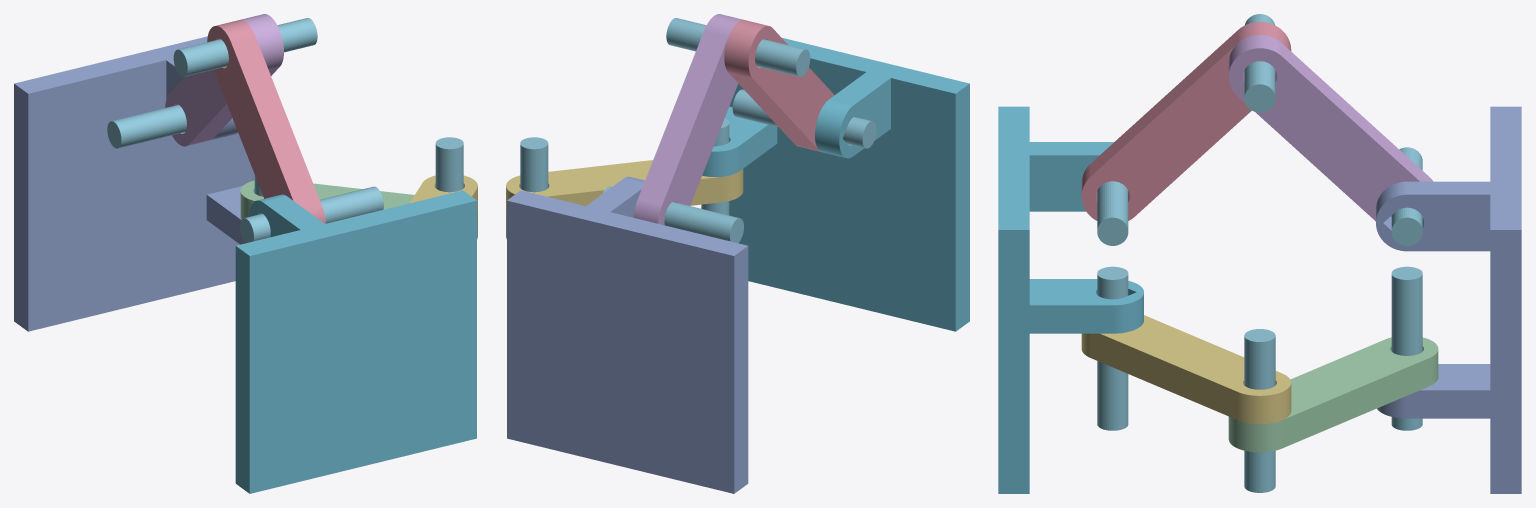
Rendered from sarrus_linkage_demo.glb.
3 renders of one model, left to right at view 1: azimuth 30°, elevation 25°; view 2: azimuth 150°, elevation 25°; view 3: azimuth 270°, elevation 25°, orthographic. The views are drawn at different scales.
Parts seen in each view (by area): view 1: platform, base_plate, chain_b_upper, chain_b_lower, hinge_pin_3, hinge_pin_5, hinge_pin_1, hinge_pin_2, chain_a_lower, chain_a_upper; view 2: base_plate, platform, chain_b_lower, chain_b_upper, chain_a_upper, hinge_pin_3, hinge_pin_1, hinge_pin_5, hinge_pin_2, hinge_pin_4; view 3: base_plate, platform, chain_b_lower, chain_b_upper, chain_a_upper, chain_a_lower, hinge_pin_2, hinge_pin_0, hinge_pin_4, hinge_pin_5, hinge_pin_3, hinge_pin_1.
Boxes of the visible parts, x1,y1,x2,y2 form: platform: (235, 190, 476, 493); base_plate: (14, 36, 254, 331); chain_b_upper: (207, 20, 325, 223); chain_b_lower: (165, 14, 283, 146); hinge_pin_3: (173, 18, 317, 76); hinge_pin_5: (240, 186, 383, 243); hinge_pin_1: (107, 105, 186, 148); hinge_pin_2: (435, 137, 463, 192); chain_a_lower: (240, 180, 477, 238); chain_a_upper: (410, 175, 477, 213); base_plate: (507, 176, 748, 493); platform: (702, 38, 969, 331); chain_b_lower: (633, 14, 743, 225); chain_b_upper: (724, 20, 834, 151); chain_a_upper: (506, 160, 743, 213); hinge_pin_3: (666, 18, 810, 76); hinge_pin_1: (603, 186, 743, 243); hinge_pin_5: (732, 89, 876, 148); hinge_pin_2: (520, 137, 548, 192); hinge_pin_4: (701, 118, 729, 215); base_plate: (1376, 106, 1521, 493); platform: (998, 106, 1143, 493); chain_b_lower: (1228, 35, 1433, 221); chain_b_upper: (1081, 22, 1291, 220); chain_a_upper: (1081, 315, 1291, 423); chain_a_lower: (1228, 337, 1438, 452); hinge_pin_2: (1244, 329, 1275, 492); hinge_pin_0: (1391, 266, 1422, 430); hinge_pin_4: (1097, 266, 1128, 430); hinge_pin_5: (1097, 181, 1128, 245); hinge_pin_3: (1244, 14, 1275, 112); hinge_pin_1: (1391, 147, 1422, 245).
Bounding box in the file's own units: 42.14 × 42.14 × 50.28.
